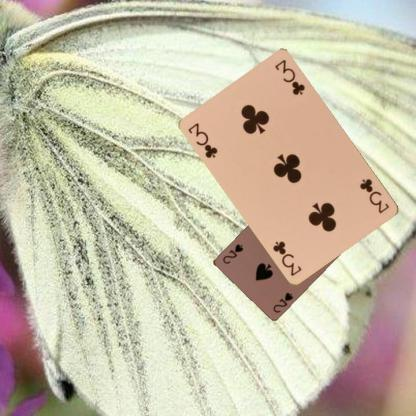2s: (270, 289, 294, 314)
3c: (186, 119, 219, 160), (357, 176, 391, 215)
